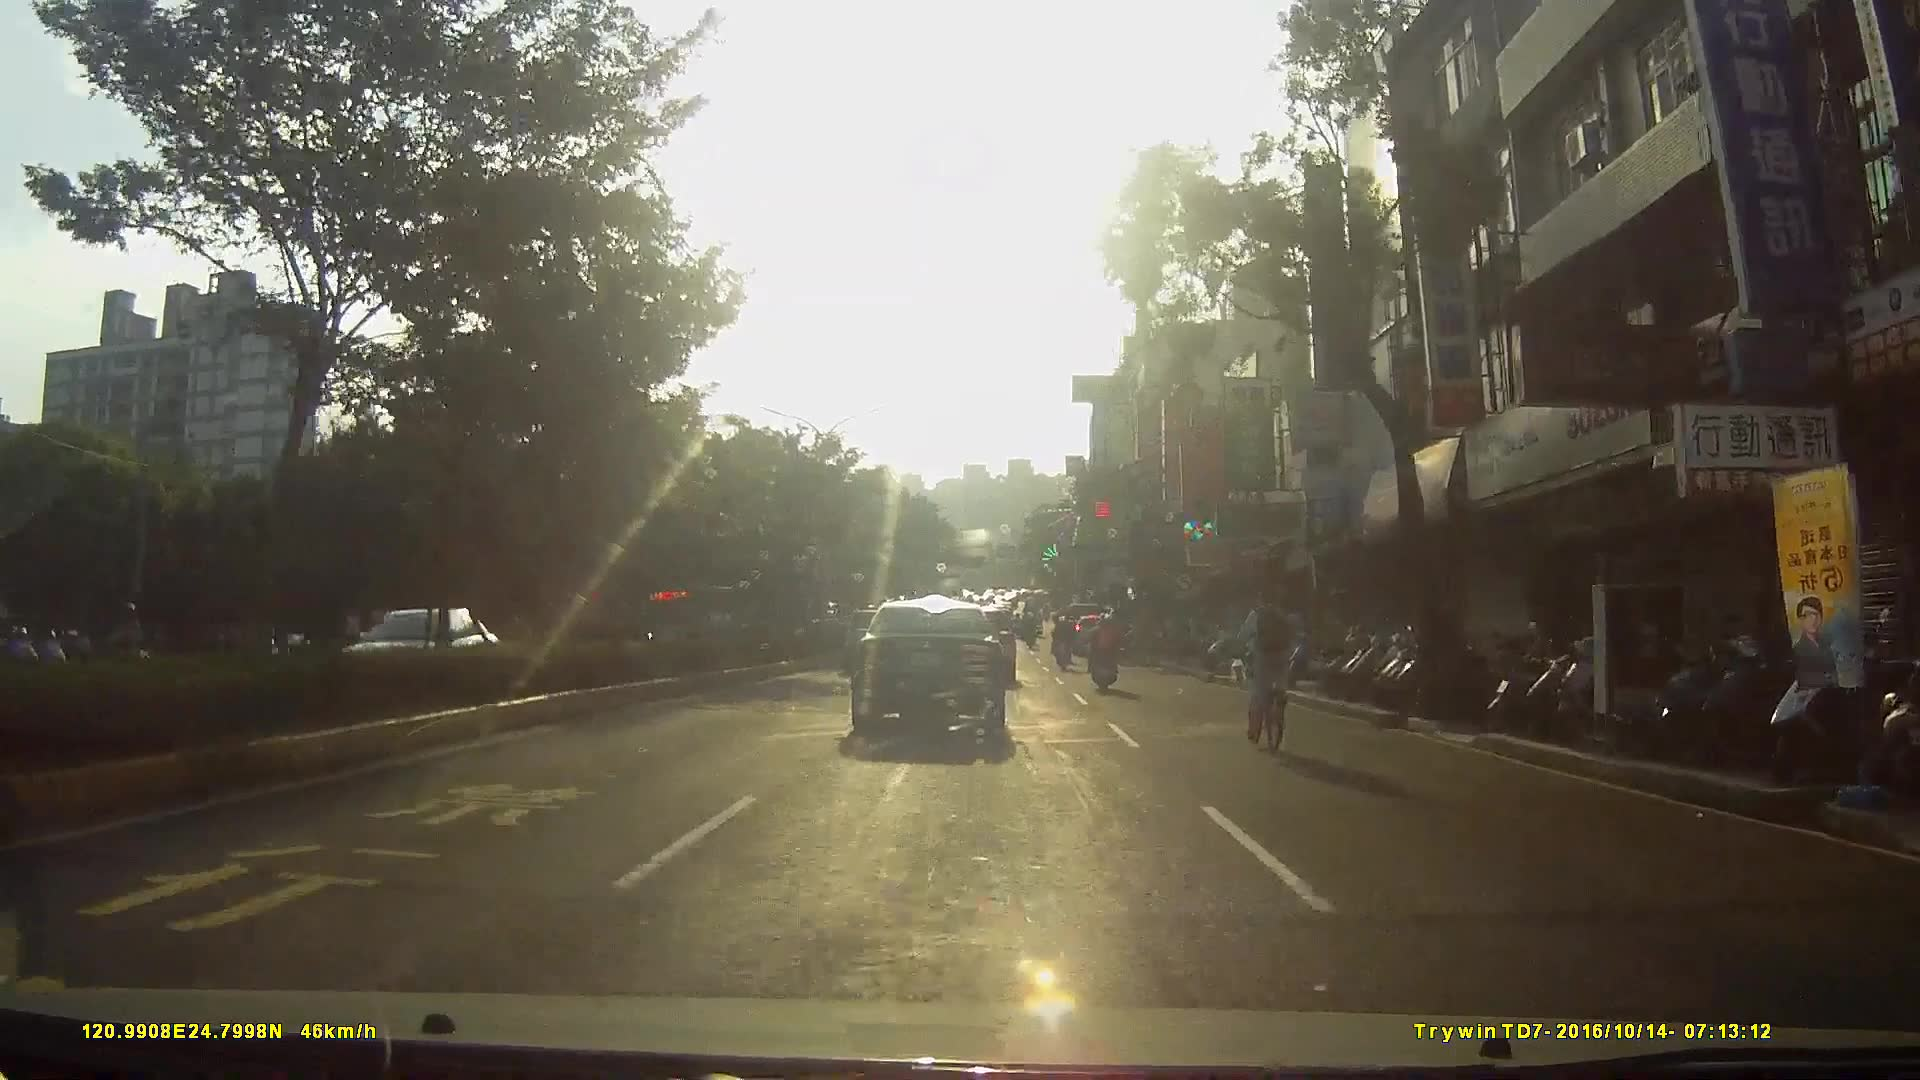rider: (1230, 583, 1306, 756), (88, 599, 162, 698), (1087, 616, 1121, 696), (1049, 616, 1076, 672)
vehicle: (852, 605, 1024, 756), (338, 604, 503, 699)
